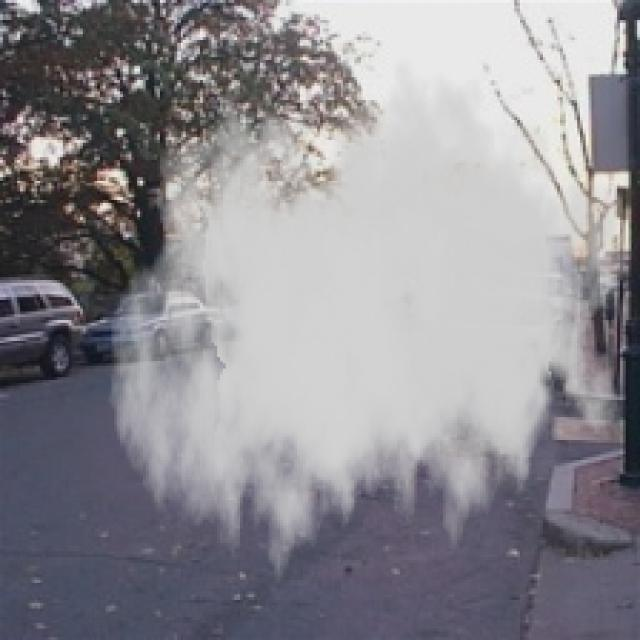Smoke: (108, 49, 634, 606)
